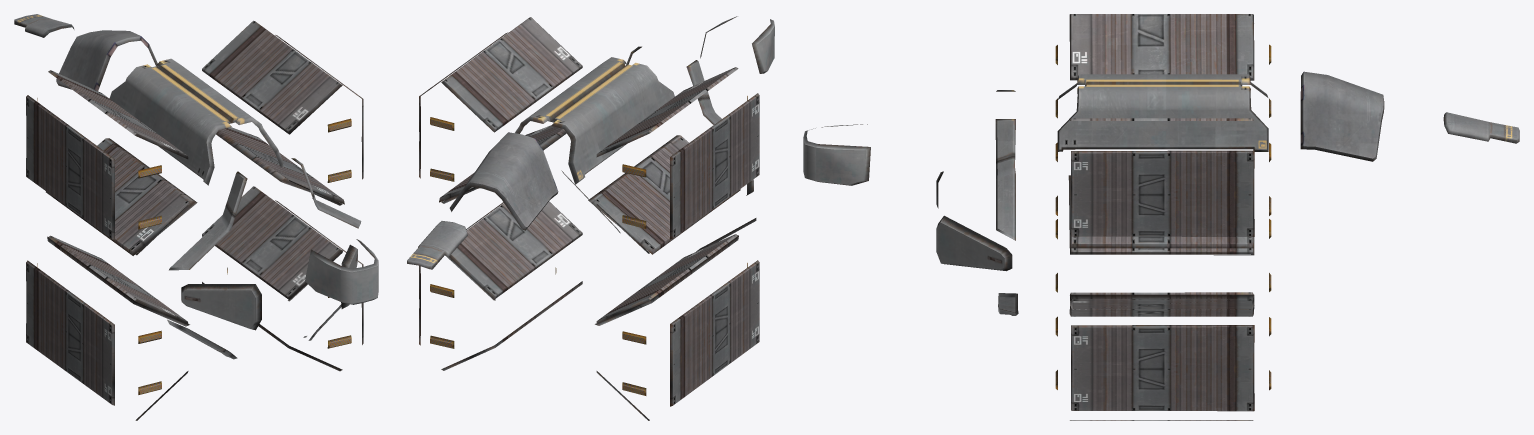
File: yao_cf_frei_02_t1.glb
The picture shows the model from 3 angles, left to right: view 1: azimuth 30°, elevation 25°; view 2: azimuth 150°, elevation 25°; view 3: azimuth 270°, elevation 25°; orthographic projection. The views are drawn at different scales.
Visible parts, largest first — view 1: yao_freighter_02_LOD0; view 2: yao_freighter_02_LOD0; view 3: yao_freighter_02_LOD0.
Boxes of the visible parts, <box> form: yao_freighter_02_LOD0: <box>14,14,378,420</box>; yao_freighter_02_LOD0: <box>407,16,774,420</box>; yao_freighter_02_LOD0: <box>803,14,1519,420</box>.
Size of what is drawn, in the model's own units: 3 by 3.29 by 7.05.
Materials: 1 (1 with a texture image).
